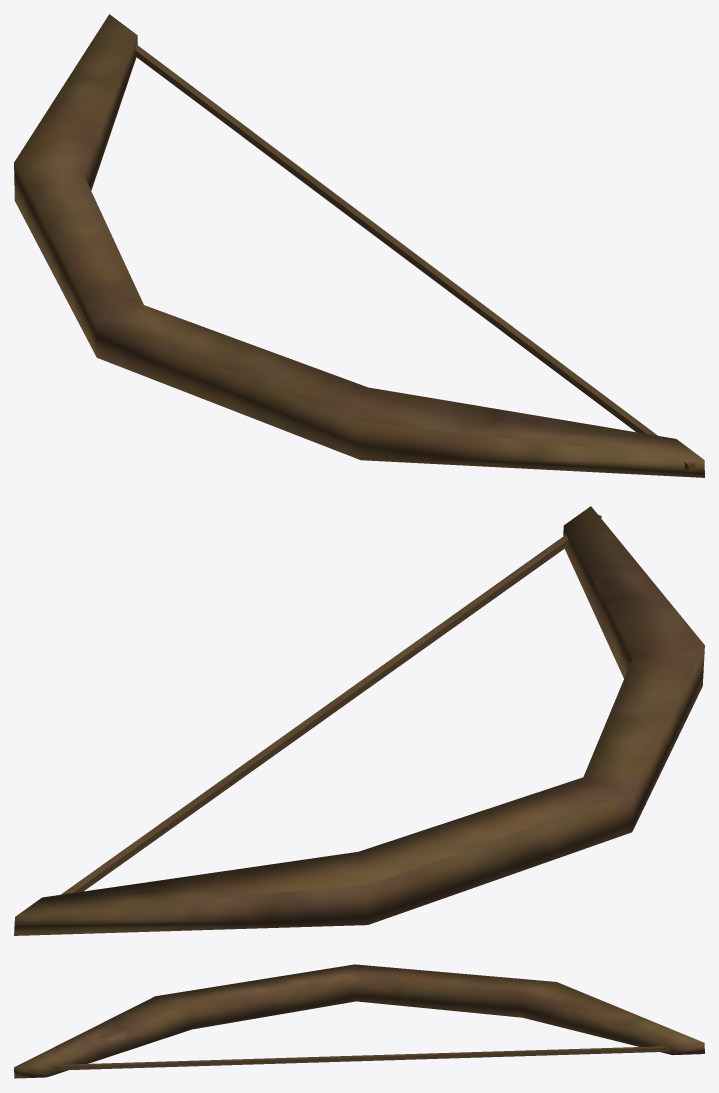
File: skeleton_bow.fbx
The picture shows the model from 3 angles, top to bottom: view 1: azimuth 30°, elevation 25°; view 2: azimuth 150°, elevation 25°; view 3: azimuth 270°, elevation 25°; orthographic projection. The views are drawn at different scales.
Visible parts, largest first — view 1: bow, Cube; view 2: bow, Cube; view 3: bow, Cube.
Part boxes in pixels (left/top/right/bottom): bow: left=14, top=14, right=704, bottom=477; Cube: left=135, top=45, right=695, bottom=471; bow: left=14, top=506, right=704, bottom=935; Cube: left=61, top=515, right=601, bottom=894; bow: left=14, top=964, right=704, bottom=1078; Cube: left=52, top=1046, right=669, bottom=1070.
Size of the model in its own units: 0.4143 by 0.0757 by 1.27.
1 material, 1 textured.
